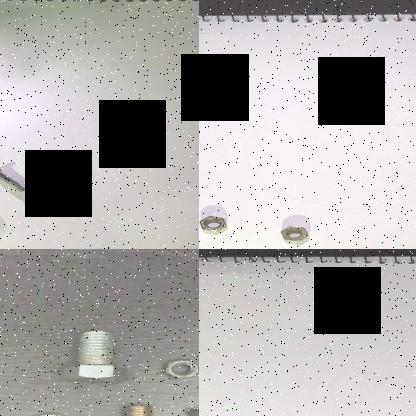Bolts: (57, 323, 129, 391), (107, 402, 169, 416), (0, 166, 31, 192)
NUTS: (157, 355, 199, 383), (199, 213, 232, 233), (278, 225, 312, 243)
